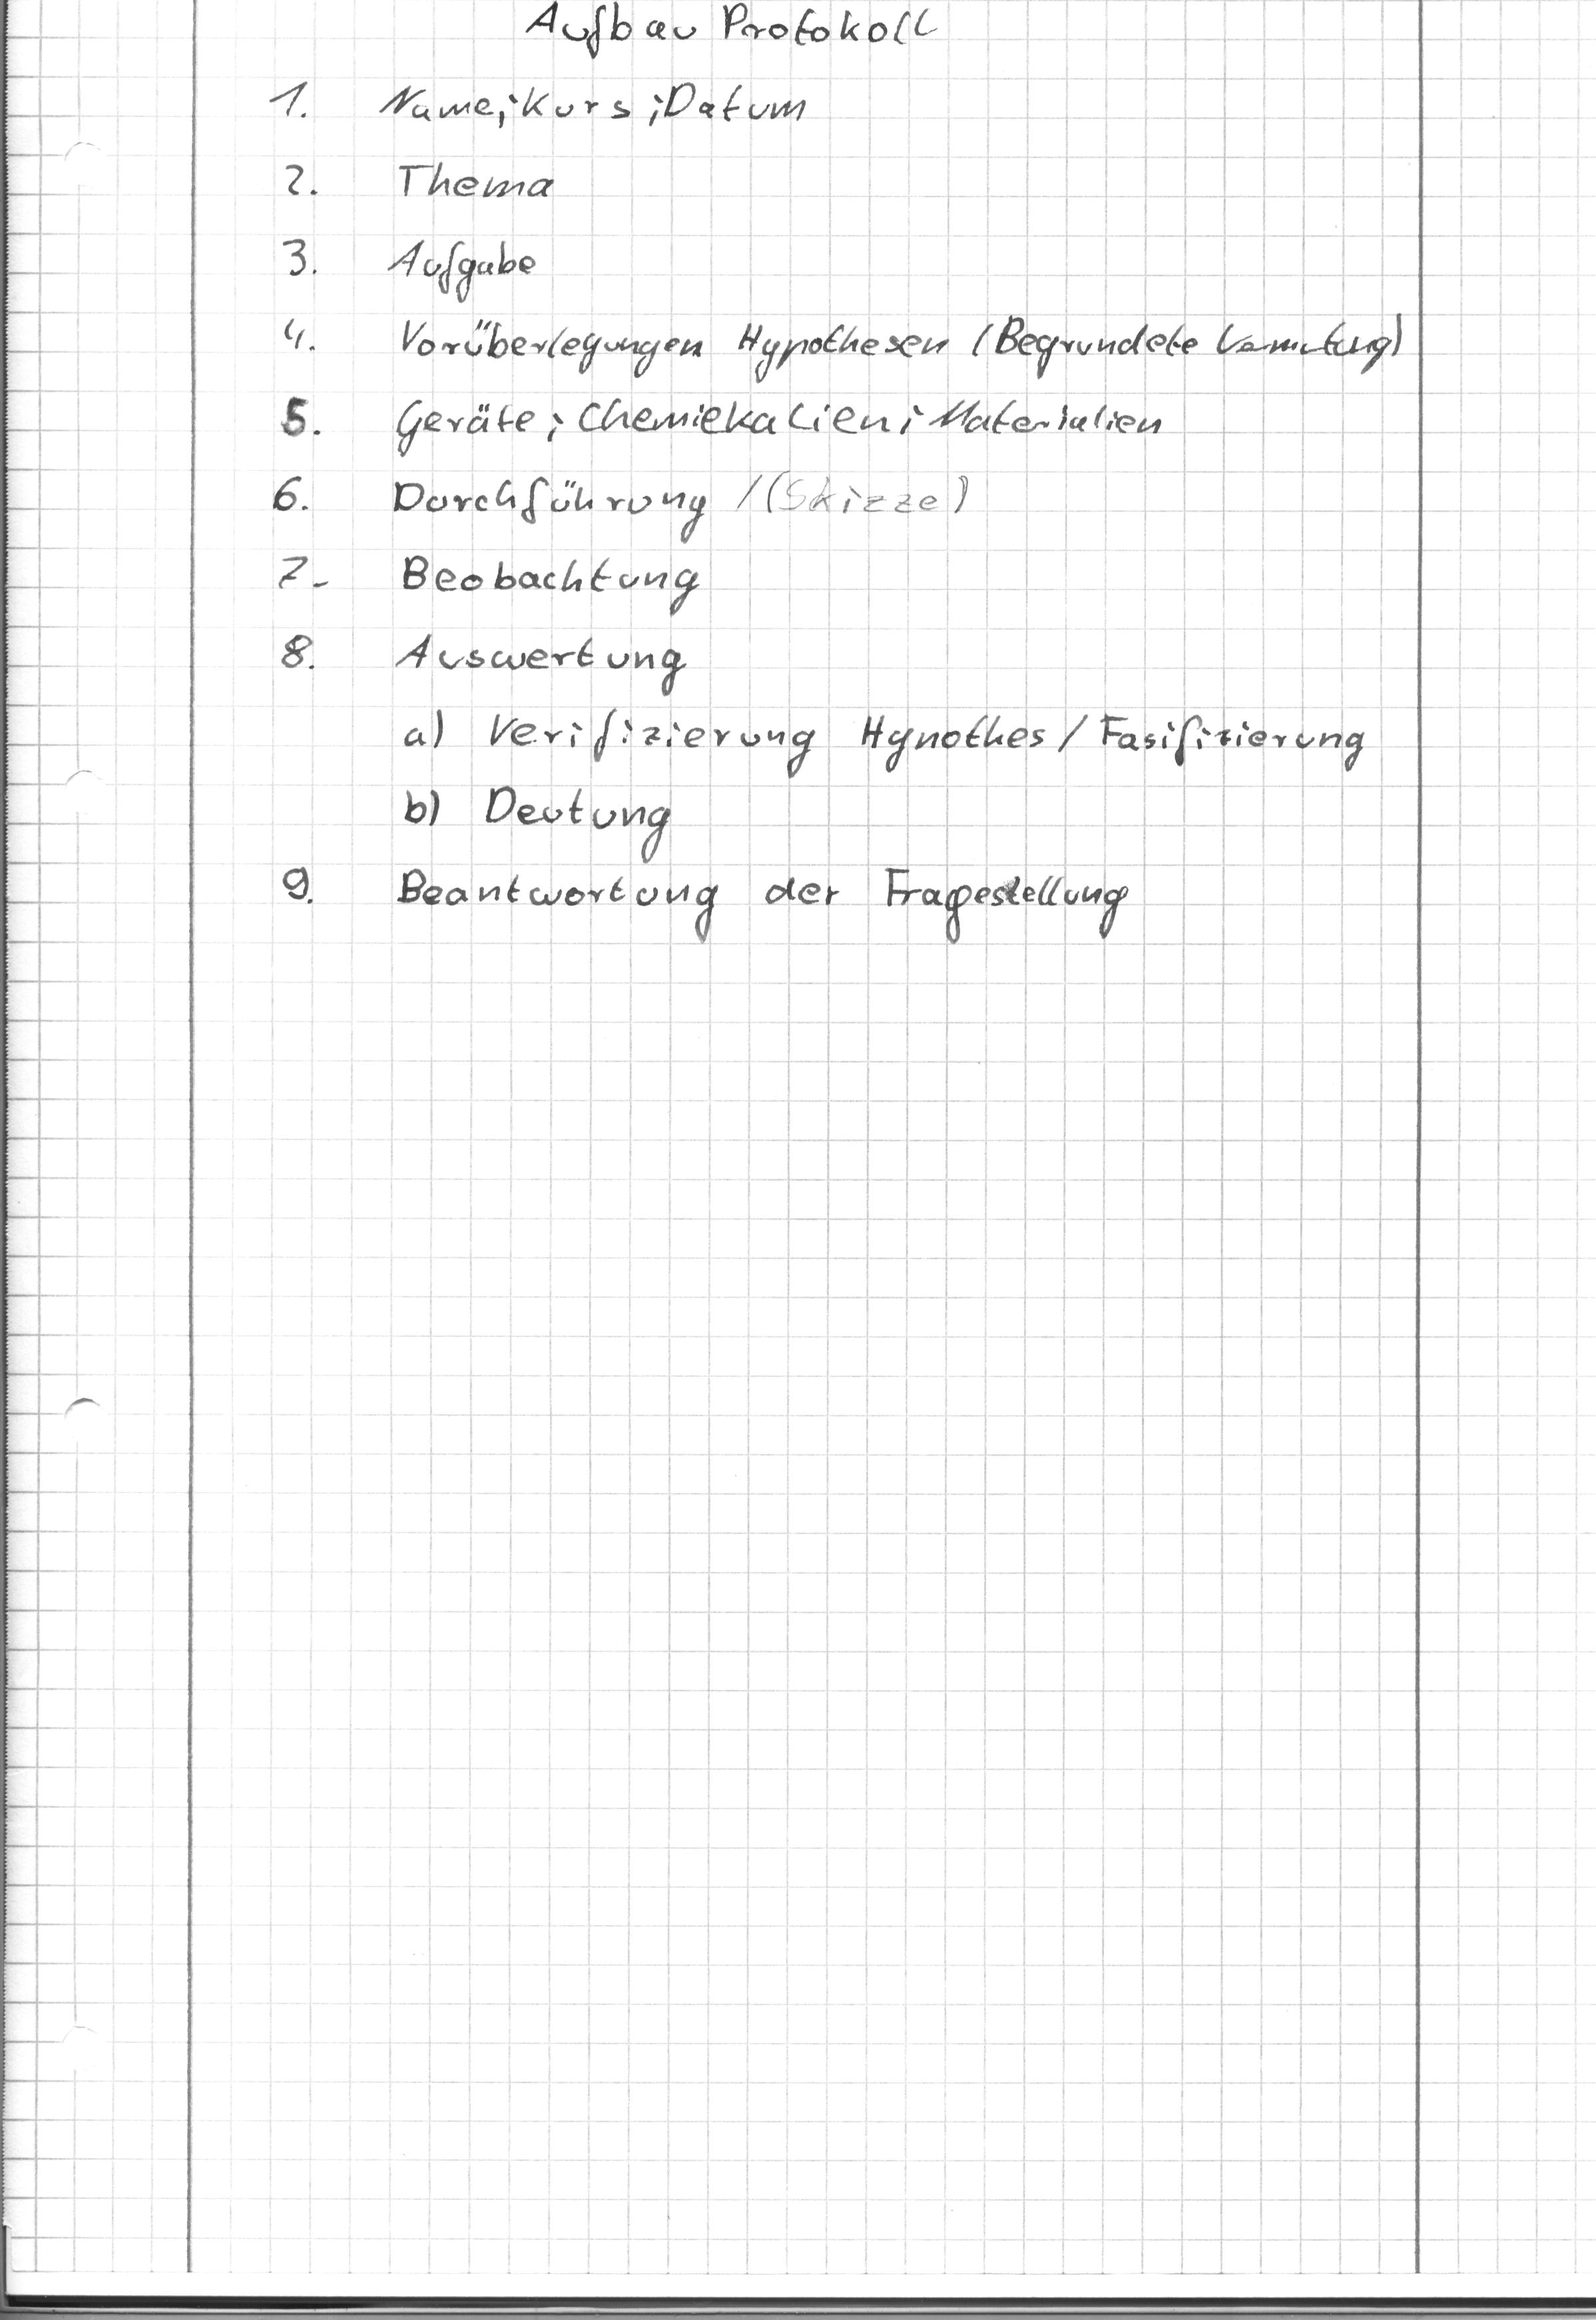word: (273, 299, 1412, 462), (398, 701, 1375, 864), (276, 847, 1134, 950), (265, 465, 717, 623), (274, 146, 560, 309), (264, 67, 822, 142), (276, 626, 690, 699)
